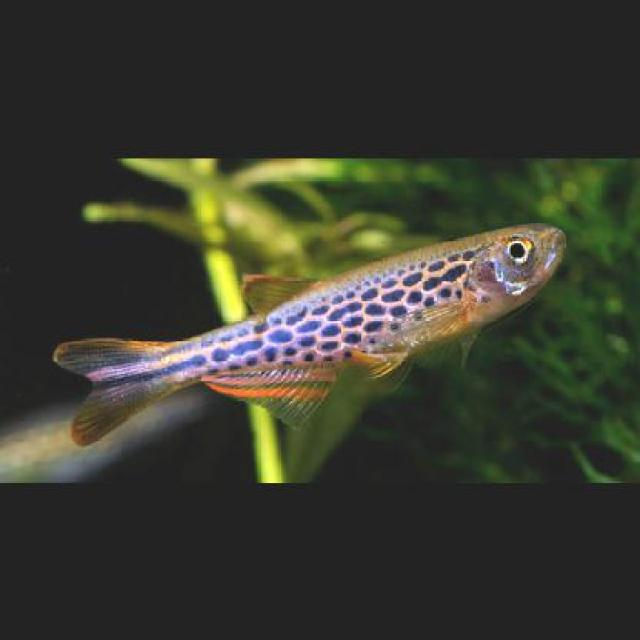ZebraFish: (54, 221, 568, 444)
